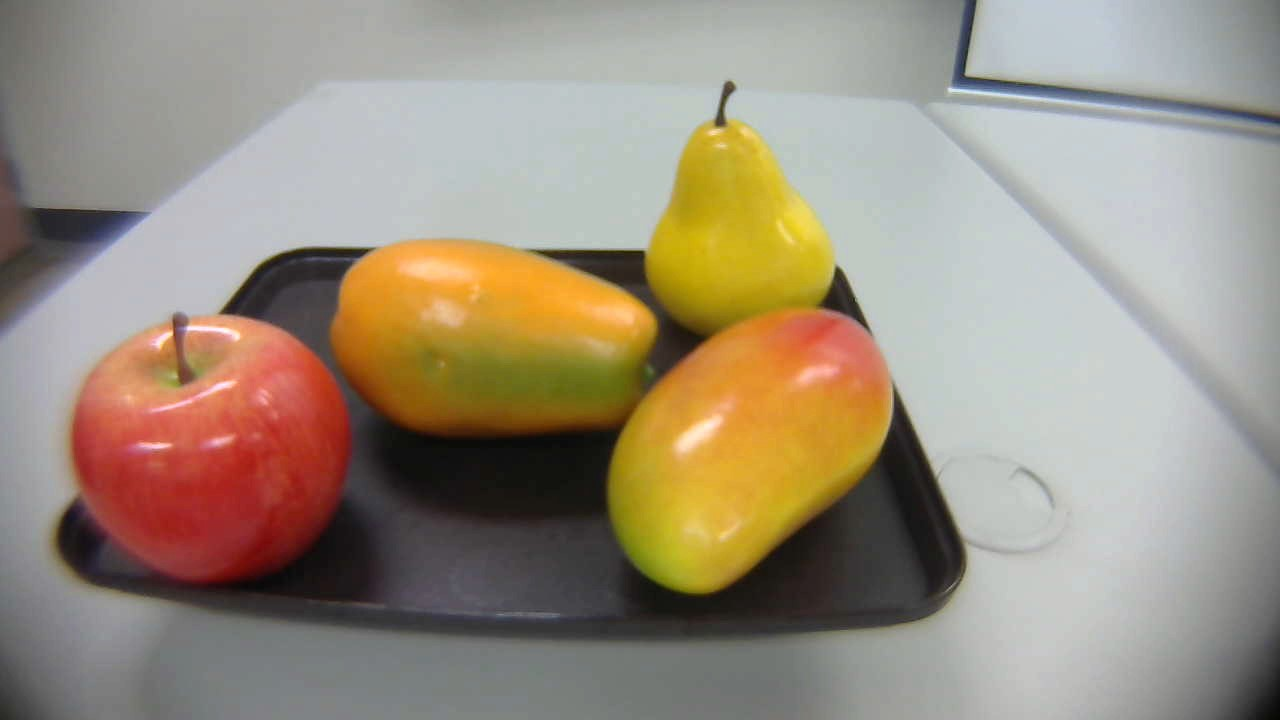papya: (315, 229, 677, 446)
red apple: (67, 304, 352, 589)
red mango: (577, 296, 903, 581)
yellow pear: (642, 78, 850, 334)
